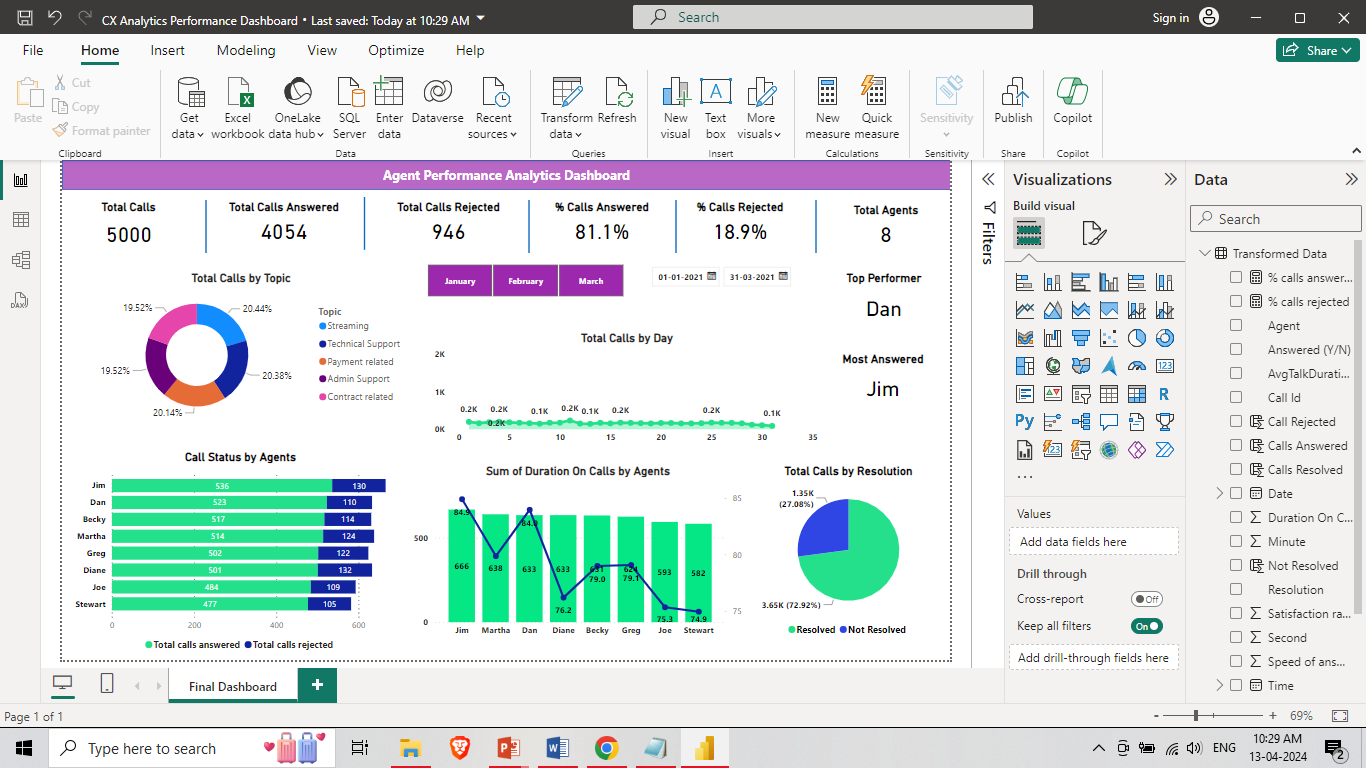

Layout of this report page (visuals, bound fields, positions):
{"tool":"powerbi","page":{"name":"Final Dashboard","canvas":[1280,720],"ordinal":0},"visuals":[{"type":"card","title":"Total Calls","fields":{"Values":["Transformed Data.Total Calls"]},"box":[14.4,57.6,162.7,76.3],"z":0},{"type":"card","title":"Total Agents","fields":{"Values":["Count(Transformed Data.Agent)"]},"box":[1118.9,61.9,135.4,69.1],"z":1000},{"type":"shape","box":[195.8,57.6,23,76.3],"z":2000},{"type":"shape","box":[429.1,53.3,13,76.3],"z":3000},{"type":"shape","box":[662.4,57.6,20.2,76.3],"z":4000},{"type":"card","title":"Total Calls Answered","fields":{"Values":["Transformed Data.Total calls answered"]},"box":[229,57.6,181.4,69.1],"z":5000},{"type":"card","title":"Total Calls Rejected","fields":{"Values":["Transformed Data.Total calls rejected"]},"box":[462.2,57.6,188.6,69.1],"z":6000},{"type":"card","title":"% Calls Answered","fields":{"Values":["Transformed Data.% calls answered"]},"box":[694.1,57.6,167,69.1],"z":7000},{"type":"card","title":"% Calls Rejected","fields":{"Values":["Transformed Data.% calls rejected"]},"box":[894.2,57.6,164.2,69.1],"z":8000},{"type":"shape","box":[874.1,57.6,20.2,76.3],"z":9000},{"type":"pieChart","fields":{"Category":["Transformed Data.Resolution"],"Y":["Transformed Data.Total Calls"]},"box":[985,459.4,295.2,257.8],"z":10000},{"type":"barChart","title":"Call Status by Agents","fields":{"Category":["Transformed Data.Agent"],"Y":["Transformed Data.Total calls answered","Transformed Data.Total calls rejected"]},"box":[13,417.6,488.2,299.5],"z":11000},{"type":"areaChart","fields":{"Category":["Transformed Data.Date.Variation.Date Hierarchy.Month","Transformed Data.Date.Variation.Date Hierarchy.Day"],"Y":["Transformed Data.Total Calls"]},"box":[531.4,282.2,564.5,155.5],"z":12000},{"type":"card","title":"Most Answered","fields":{"Values":["Min(Transformed Data.Agent)"]},"box":[1110.2,276.5,144,83.5],"z":13000},{"type":"card","title":"Top Performer","fields":{"Values":["Min(Transformed Data.Agent)"]},"box":[1113.1,159.8,141.1,86.4],"z":14000},{"type":"shape","box":[1075.7,57.6,20.2,76.3],"z":15000},{"type":"donutChart","fields":{"Category":["Transformed Data.Topic"],"Y":["Transformed Data.Total Calls"]},"box":[14.4,159.8,486.7,223.2],"z":16000},{"type":"lineStackedColumnComboChart","title":"Sum of Duration On Calls by Agents","fields":{"Category":["Transformed Data.Agent"],"Y2":["Sum(Transformed Data.Duration On Calls)"],"Y":["Transformed Data.Total Calls"]},"box":[501.1,462.2,483.8,257.8],"z":17000},{"type":"slicer","fields":{"Values":["Transformed Data.Date.Variation.Date Hierarchy.Month"]},"box":[501.1,144,331.2,59],"z":18000},{"type":"slicer","fields":{"Values":["Transformed Data.Date"]},"box":[836.6,144,221.8,59],"z":19000},{"type":"shape","box":[0,0,1280.2,43.2],"z":20000},{"type":"slicer","fields":{"Values":["Transformed Data.Agent"]},"box":[717.1,213.1,239,63.4],"z":21000}]}

Visuals, with their boxes on the page's 1280x720 design canvas (x1, y1, x2, y2). These are canvas units, not pixel positions in the 1366x768 screenshot, which may show the page scaled, cropped or inside an application window:
"Total Calls" card: pyautogui.locateOnScreen(14, 58, 177, 134)
"Total Agents" card: pyautogui.locateOnScreen(1119, 62, 1254, 131)
shape: pyautogui.locateOnScreen(196, 58, 219, 134)
shape: pyautogui.locateOnScreen(429, 53, 442, 130)
shape: pyautogui.locateOnScreen(662, 58, 683, 134)
"Total Calls Answered" card: pyautogui.locateOnScreen(229, 58, 410, 127)
"Total Calls Rejected" card: pyautogui.locateOnScreen(462, 58, 651, 127)
"% Calls Answered" card: pyautogui.locateOnScreen(694, 58, 861, 127)
"% Calls Rejected" card: pyautogui.locateOnScreen(894, 58, 1058, 127)
shape: pyautogui.locateOnScreen(874, 58, 894, 134)
pieChart - Transformed Data.Resolution x Transformed Data.Total Calls: pyautogui.locateOnScreen(985, 459, 1280, 717)
"Call Status by Agents" barChart: pyautogui.locateOnScreen(13, 418, 501, 717)
areaChart - Transformed Data.Date.Variation.Date Hierarchy.Month x Transformed Data.Date.Variation.Date Hierarchy.Day: pyautogui.locateOnScreen(531, 282, 1096, 438)
"Most Answered" card: pyautogui.locateOnScreen(1110, 276, 1254, 360)
"Top Performer" card: pyautogui.locateOnScreen(1113, 160, 1254, 246)
shape: pyautogui.locateOnScreen(1076, 58, 1096, 134)
donutChart - Transformed Data.Topic x Transformed Data.Total Calls: pyautogui.locateOnScreen(14, 160, 501, 383)
"Sum of Duration On Calls by Agents" lineStackedColumnComboChart: pyautogui.locateOnScreen(501, 462, 985, 720)
slicer - Transformed Data.Date.Variation.Date Hierarchy.Month: pyautogui.locateOnScreen(501, 144, 832, 203)
slicer - Transformed Data.Date: pyautogui.locateOnScreen(837, 144, 1058, 203)
shape: pyautogui.locateOnScreen(0, 0, 1280, 43)
slicer - Transformed Data.Agent: pyautogui.locateOnScreen(717, 213, 956, 276)
